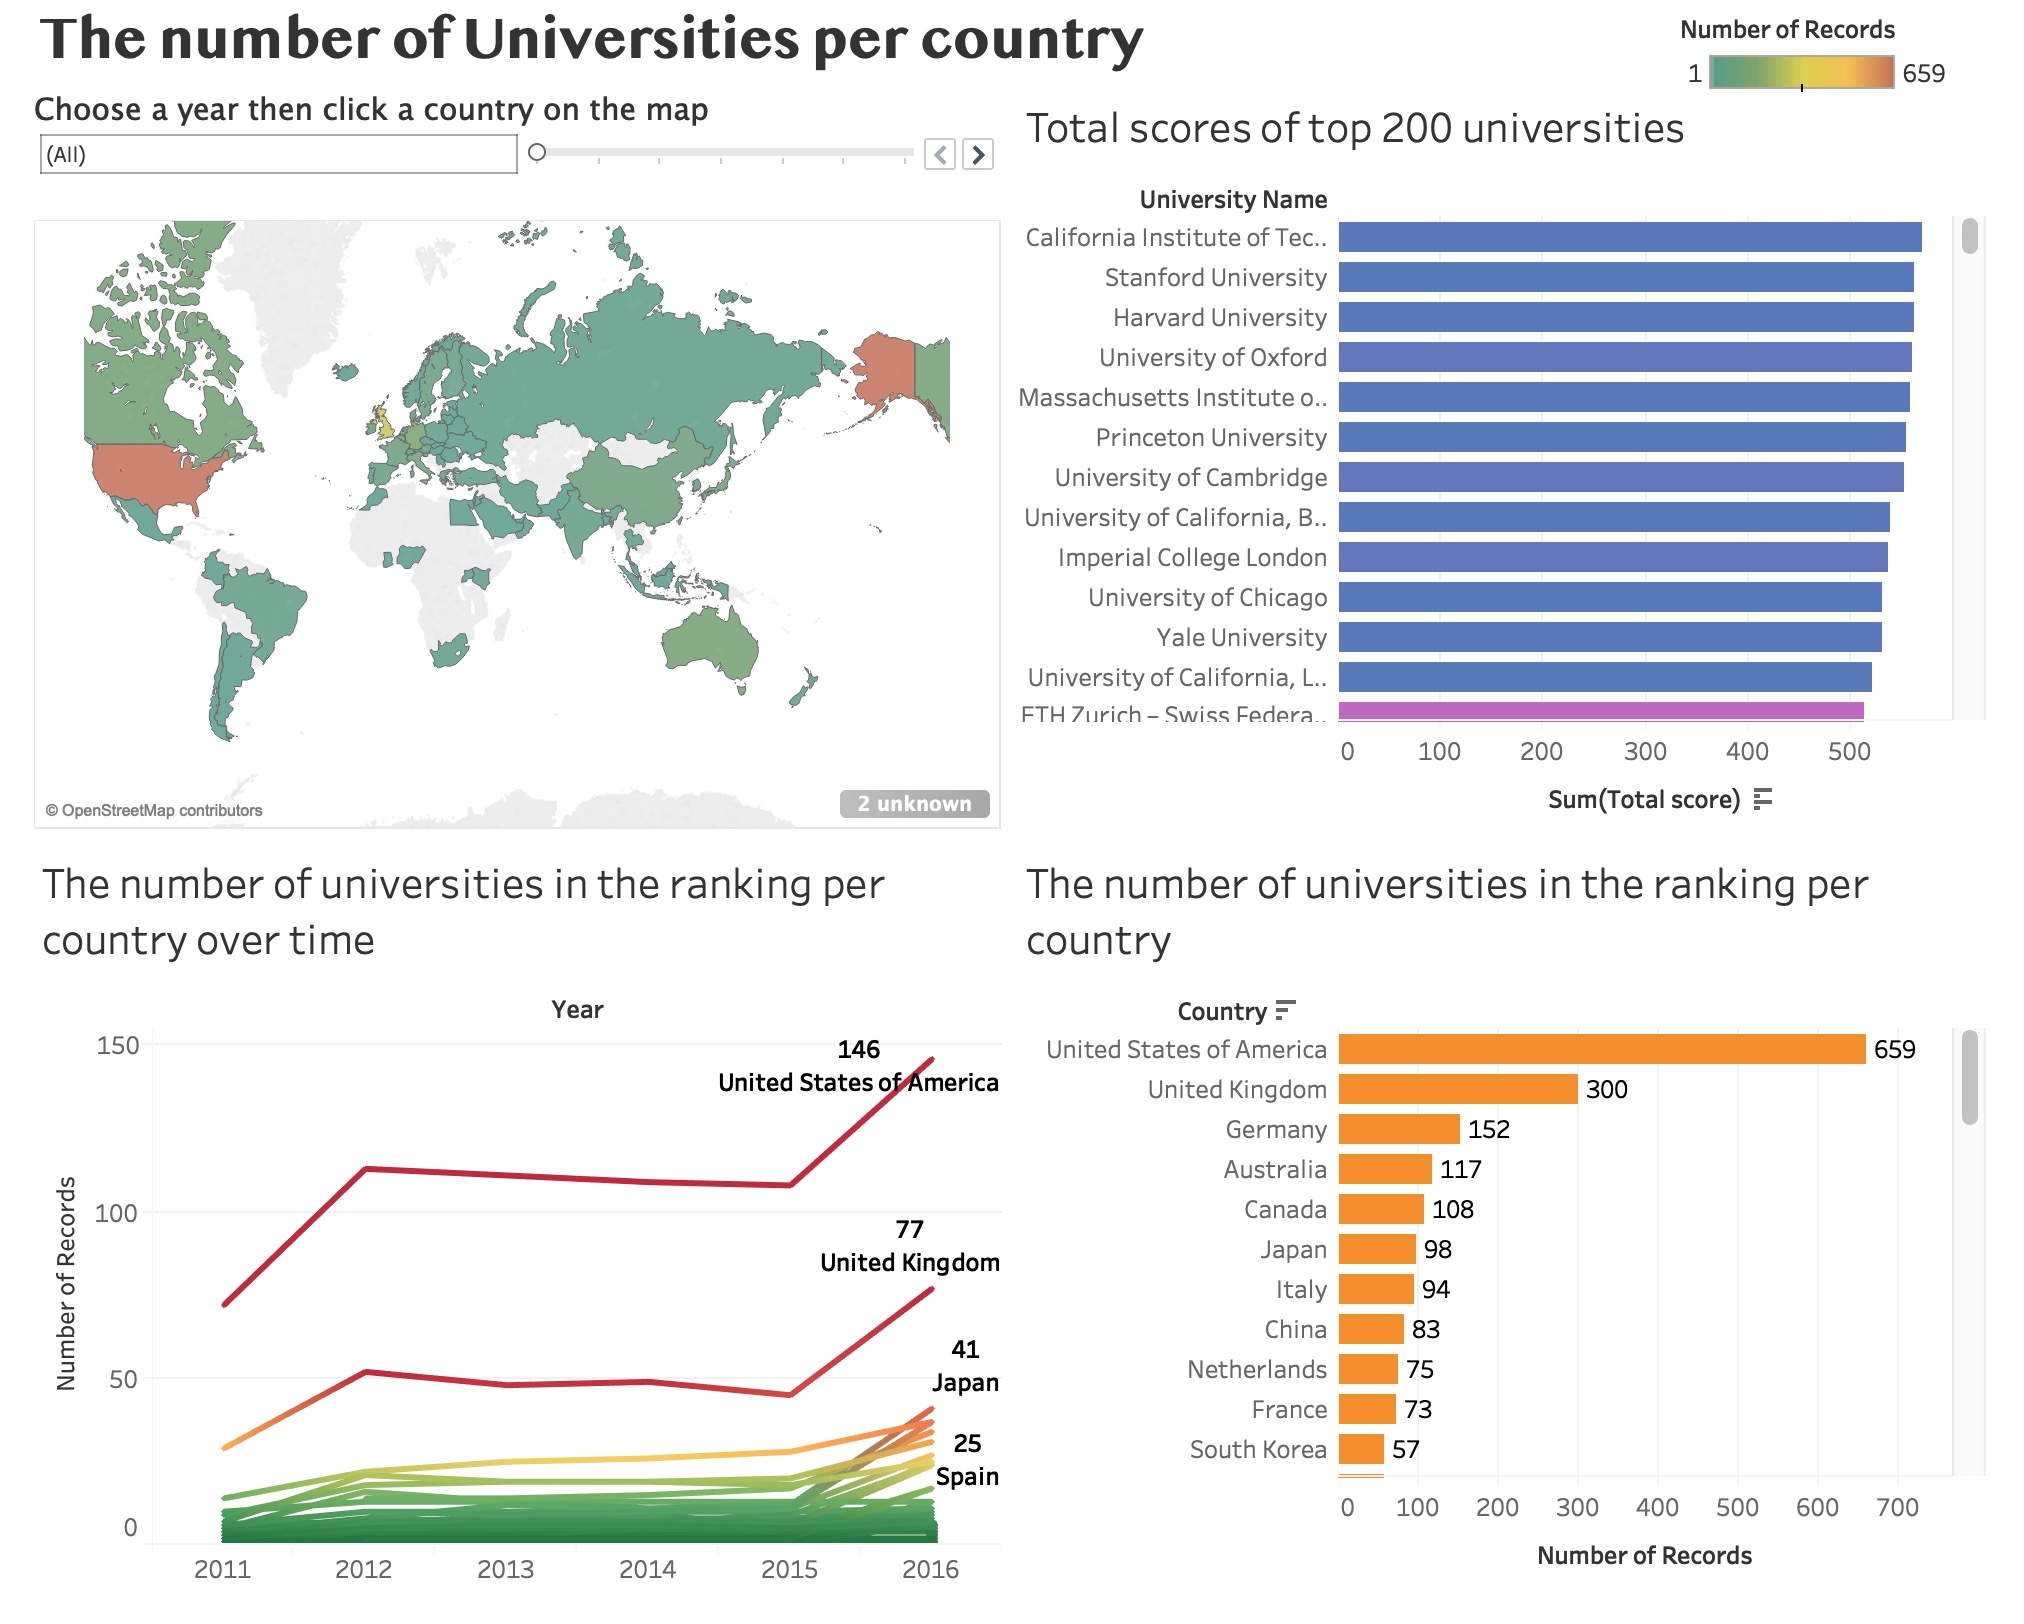

The page's visual inventory and layout, read from the dashboard file:
{"tool":"tableau","page":{"name":"The number of Universities per country","canvas":[1000,1000],"units":"permille","ordinal":1},"visuals":[{"type":"title","box":[7.9,10.3,984.2,54.3]},{"type":"legend","title":"The number of universities in the ranking per country (map)","param":"[federated.09nbwbp17v8qh01gjjk5113bnnr8].[sum:Number of Records:qk]","box":[834.8,18.1,138.5,64.7]},{"type":"filter","title":"The number of universities in the ranking per country (map)","param":"[federated.09nbwbp17v8qh01gjjk5113bnnr8].[none:year:nk]","box":[7.9,64.7,492,79.4]},{"type":"worksheet","title":"Total scores of top 200 universities","mark":"Automatic","rows":["university_name"],"cols":["Calculation_1441081574450917376"],"box":[499.9,64.7,492.1,462.4]},{"type":"worksheet","title":"The number of universities in the ranking per country (map)","mark":"Automatic","box":[7.9,144,492,383.1]},{"type":"worksheet","title":"The number of universities in the ranking per country over time ","mark":"Line","rows":["Number of Records"],"cols":["year"],"box":[7.9,527.1,492,462.6]},{"type":"worksheet","title":"The number of universities in the ranking per country (bar chart) ","mark":"Automatic","rows":["country"],"cols":["Number of Records"],"box":[499.9,527.1,492.1,462.5]}]}

Visuals, with their boxes on the dashboard's canvas, which has no fixed pixel size, in thousandths of its width and height (x1, y1, x2, y2). These are canvas units, not pixel positions in the 2024x1624 screenshot, which may show the page scaled, cropped or inside an application window:
title: x1=8, y1=10, x2=992, y2=65
"The number of universities in the ranking per country (map)" legend: x1=835, y1=18, x2=973, y2=83
"The number of universities in the ranking per country (map)" filter: x1=8, y1=65, x2=500, y2=144
"Total scores of top 200 universities" worksheet: x1=500, y1=65, x2=992, y2=527
"The number of universities in the ranking per country (map)" worksheet: x1=8, y1=144, x2=500, y2=527
"The number of universities in the ranking per country over time " worksheet (Line marks): x1=8, y1=527, x2=500, y2=990
"The number of universities in the ranking per country (bar chart) " worksheet: x1=500, y1=527, x2=992, y2=990
